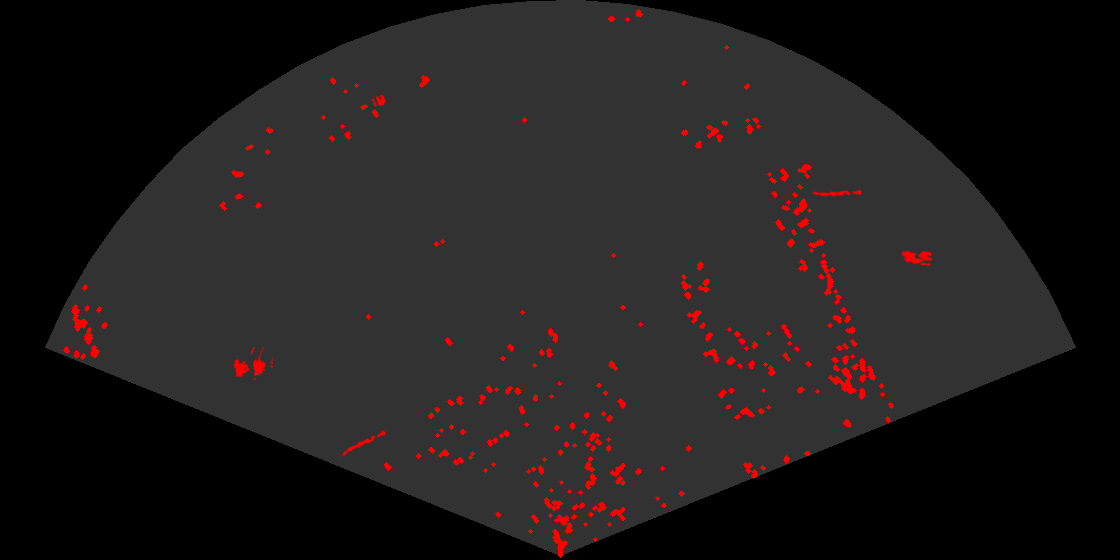AUV: (900, 249, 925, 266)
ball: (917, 249, 934, 268), (370, 93, 388, 108)
cage: (232, 347, 273, 382)
chain: (336, 429, 387, 458), (811, 188, 862, 198)
